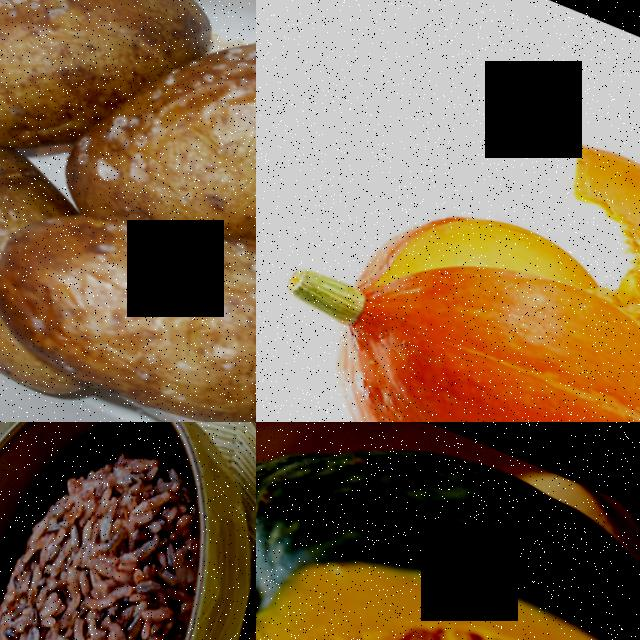potato: (0, 140, 256, 422), (109, 0, 256, 260), (0, 0, 155, 179), (0, 113, 46, 335)
pumpkin: (287, 182, 640, 422), (256, 422, 640, 640), (530, 118, 640, 340)
red rice: (0, 422, 229, 640)
